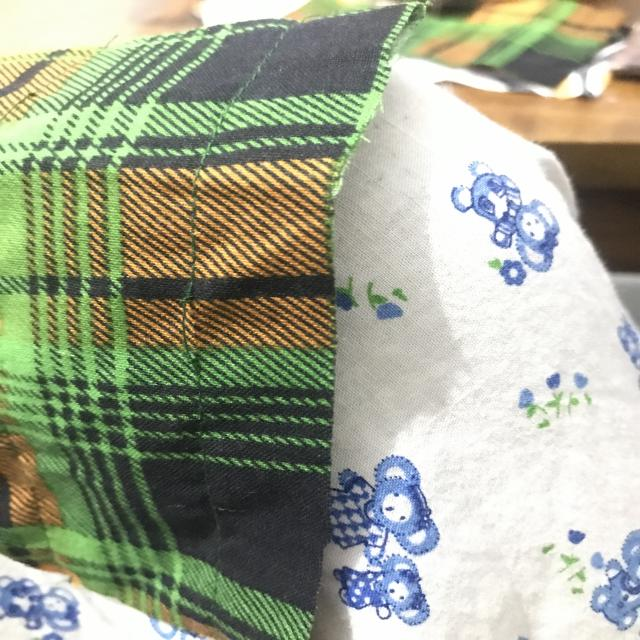skip: (172, 253, 218, 385)
